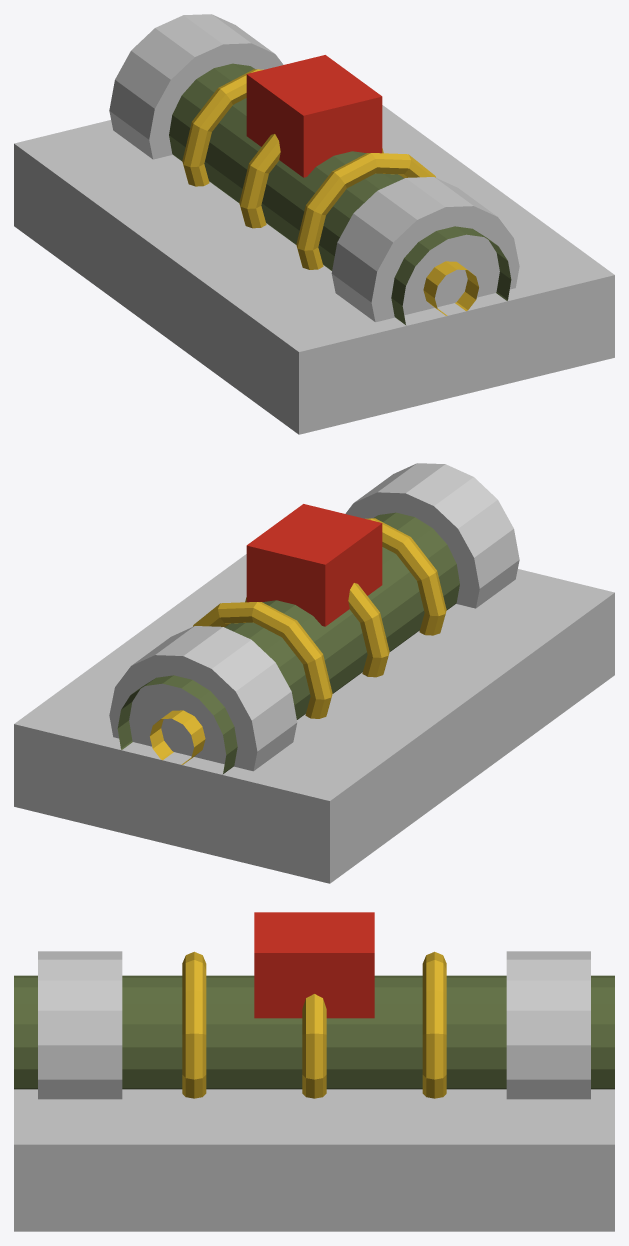
Rendered from cable.obj.
3 renders of one model, top to bottom at view 1: azimuth 30°, elevation 25°; view 2: azimuth 150°, elevation 25°; view 3: azimuth 270°, elevation 25°, orthographic. The views are drawn at different scales.
Parts seen in each view (by area): view 1: cable; view 2: cable; view 3: cable.
Part boxes in pixels (x1=…): cable: x1=14, y1=14, x2=614, y2=434; cable: x1=14, y1=463, x2=614, y2=883; cable: x1=14, y1=912, x2=614, y2=1231.
Bounding box in the file's own units: 0.64 × 0.4 × 1.
